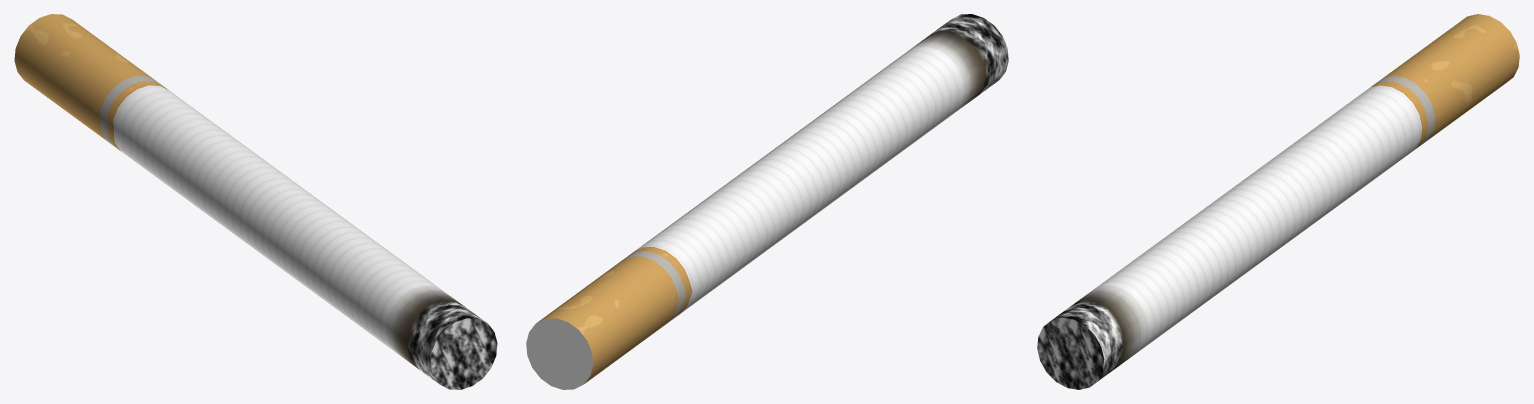
File: Cigarette.FBX
3 renders of one model, left to right at view 1: azimuth 30°, elevation 25°; view 2: azimuth 150°, elevation 25°; view 3: azimuth 330°, elevation 25°, orthographic.
Visible parts, largest first — view 1: cigarette; view 2: cigarette; view 3: cigarette.
Boxes of the visible parts, bbox=[...] form: cigarette: bbox=[14, 14, 497, 389]; cigarette: bbox=[526, 14, 1008, 389]; cigarette: bbox=[1037, 14, 1519, 389].
Bounding box in the file's own units: 1.73 × 1.73 × 18.49.
